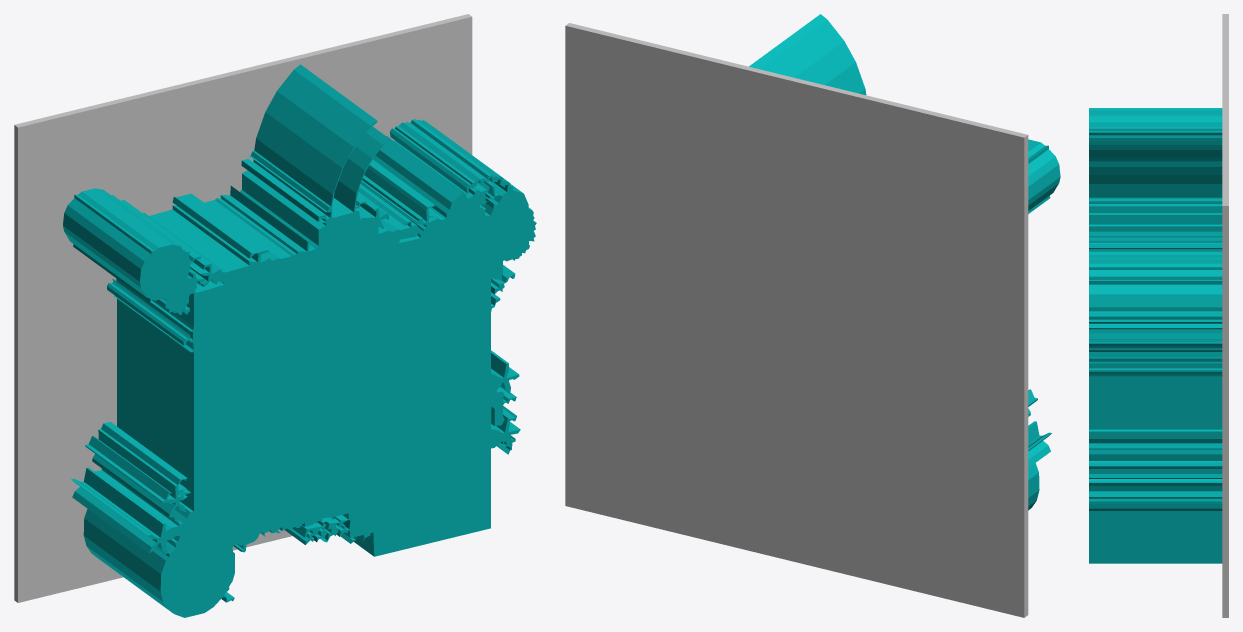
The picture shows the model from 3 angles, left to right: view 1: azimuth 30°, elevation 25°; view 2: azimuth 150°, elevation 25°; view 3: azimuth 270°, elevation 25°; orthographic projection. The views are drawn at different scales.
Parts seen in each view (by area): view 1: world; view 2: world; view 3: world.
Part boxes in pixels (x1,y1,x2,y2): world: (14,14,536,617); world: (565,14,1060,617); world: (1089,14,1228,617).
Size of the model in its own units: 10.23 by 10.23 by 3.15.
